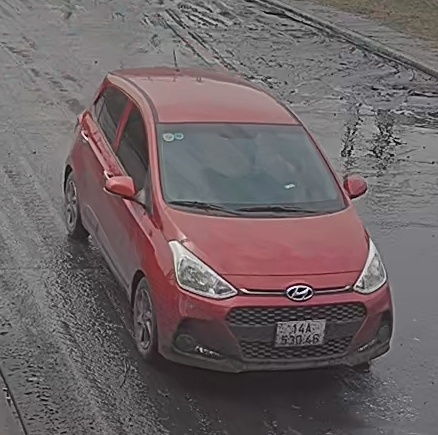vehicle plate: (274, 313, 328, 351)
